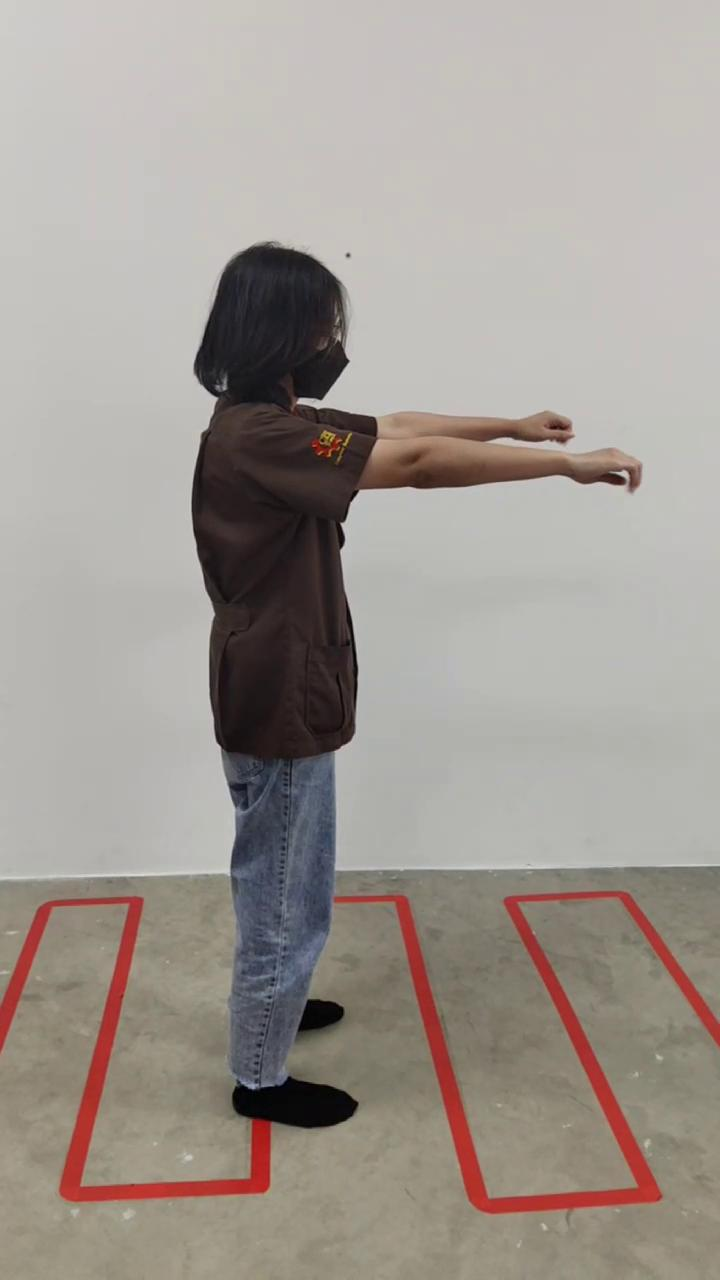squat up: (191, 245, 641, 1130)
